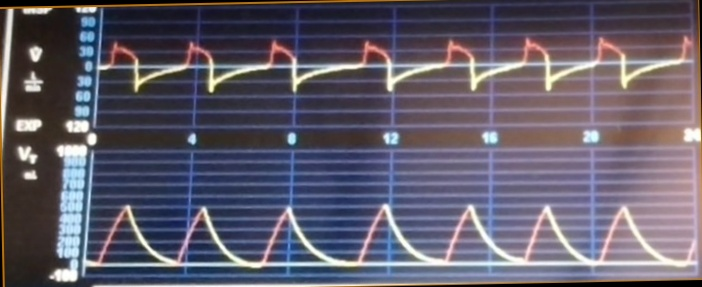Normal Flow: (103, 21, 691, 112)
Normal Volume: (91, 181, 695, 272)
